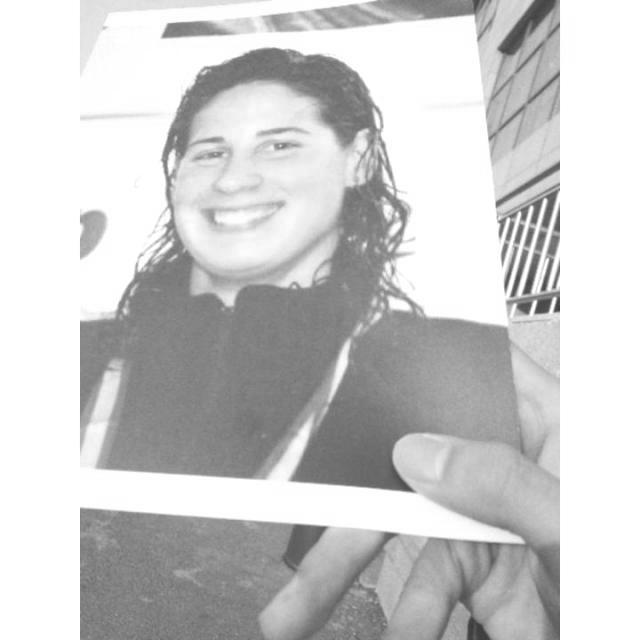fake: (81, 0, 535, 553)
